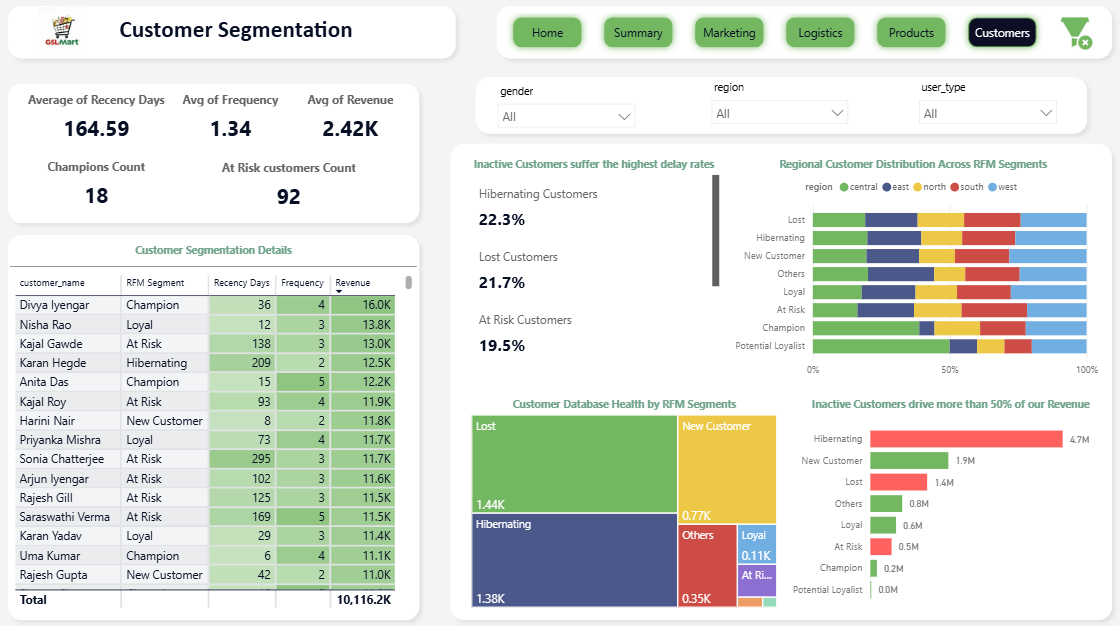

Layout of this report page (visuals, bound fields, positions):
{"tool":"powerbi","page":{"name":"Customers","canvas":[1280,720],"ordinal":5},"visuals":[{"type":"shape","box":[0,261.4,488.3,458.9],"z":0},{"type":"shape","box":[534.3,81.4,717.1,82.9],"z":1000},{"type":"shape","box":[505.7,157.1,774.3,562.9],"z":2000},{"type":"shape","box":[0,88.3,488.3,177.9],"z":3000},{"type":"shape","box":[0,0,529.9,78.4],"z":4000},{"type":"cardVisual","fields":{"Data":["Avg(RFM Table.Recency Days)"]},"box":[0,88.6,220,92.9],"z":5000},{"type":"cardVisual","fields":{"Data":["Avg(RFM Table.Frequency)"]},"box":[174.3,81.4,178.6,107.1],"z":6000},{"type":"shape","box":[558.5,0,721.5,78.4],"z":7000},{"type":"cardVisual","fields":{"Data":["Avg(RFM Table.Revenue)"]},"box":[312.9,88.3,175.5,93.3],"z":8000},{"type":"cardVisual","fields":{"Data":["CountNonNull(RFM Table.RFM Segment)"]},"box":[0,162.9,220,98.6],"z":9000},{"type":"slicer","fields":{"Values":["Dim_Customers.gender"]},"box":[558.5,93.3,177,70],"z":10000},{"type":"slicer","fields":{"Values":["Dim_Geography.region"]},"box":[802.5,88.3,176.7,69.9],"z":11000},{"type":"slicer","fields":{"Values":["Dim_Customers.user_type"]},"box":[1040.5,88.3,177.9,69.9],"z":12000},{"type":"cardVisual","fields":{"Data":["CountNonNull(RFM Table.RFM Segment)"]},"box":[220,164.3,220,98.6],"z":13000},{"type":"treemap","title":"Customer Database Health by RFM Segments","fields":{"Group":["RFM Table.RFM Segment"],"Values":["CountNonNull(RFM Table.customer_id)"]},"box":[534.3,455.7,358.6,245.7],"z":14000},{"type":"clusteredBarChart","title":"Inactive Customers drive more than 50% of our Revenue","fields":{"Y":["Sum(RFM Table.Revenue)"],"Category":["RFM Table.RFM Segment"]},"box":[892.9,455.7,387.1,245.7],"z":15000},{"type":"tableEx","title":"Customer Segmentation Details","fields":{"Values":["Dim_Customers.customer_name","RFM Table.RFM Segment","RFM Table.Recency Days","RFM Table.Frequency","Sum(RFM Table.Revenue)"]},"box":[11,279.8,465,420.9],"z":16000},{"type":"hundredPercentStackedBarChart","title":"Regional Customer Distribution Across RFM Segments","fields":{"Category":["RFM Table.RFM Segment"],"Series":["Dim_Geography.region"],"Y":["CountNonNull(RFM Table.customer_id)"]},"box":[827.1,181.4,432.9,260],"z":17000},{"type":"cardVisual","title":"Inactive Customers suffer the highest delay rates","fields":{"Data":["RFM Table.Delay Rate for Hibernating","RFM Table.Delay Rate for Lost","RFM Table.Delay Rate for At Risk","RFM Table.Delay Rate for Champion","RFM Table.Delay Rate for Potential Loyalist"]},"box":[530,181.2,297.5,238.8],"z":18000},{"type":"textbox","box":[131.2,13.8,307.5,46.2],"z":19000},{"type":"pageNavigator","box":[578.8,13.8,617.5,50],"z":20000},{"type":"image","box":[1196.2,13.8,65,50],"z":21000},{"type":"image","box":[11.2,6.2,120,63.8],"z":22000}]}

Visuals, with their boxes in screenshot pixels (x1, y1, x2, y2), scaled from the page's 1280x720 canvas onto the 1120x626 screenshot:
shape: locate(0, 227, 427, 625)
shape: locate(468, 71, 1095, 143)
shape: locate(442, 137, 1119, 625)
shape: locate(0, 77, 427, 231)
shape: locate(0, 0, 464, 68)
cardVisual - Avg(RFM Table.Recency Days): locate(0, 77, 192, 158)
cardVisual - Avg(RFM Table.Frequency): locate(153, 71, 309, 164)
shape: locate(489, 0, 1119, 68)
cardVisual - Avg(RFM Table.Revenue): locate(274, 77, 427, 158)
cardVisual - CountNonNull(RFM Table.RFM Segment): locate(0, 142, 192, 227)
slicer - Dim_Customers.gender: locate(489, 81, 644, 142)
slicer - Dim_Geography.region: locate(702, 77, 857, 138)
slicer - Dim_Customers.user_type: locate(910, 77, 1066, 138)
cardVisual - CountNonNull(RFM Table.RFM Segment): locate(192, 143, 385, 229)
"Customer Database Health by RFM Segments" treemap: locate(468, 396, 781, 610)
"Inactive Customers drive more than 50% of our Revenue" clusteredBarChart: locate(781, 396, 1119, 610)
"Customer Segmentation Details" tableEx: locate(10, 243, 416, 609)
"Regional Customer Distribution Across RFM Segments" hundredPercentStackedBarChart: locate(724, 158, 1102, 384)
"Inactive Customers suffer the highest delay rates" cardVisual: locate(464, 158, 724, 365)
textbox: locate(115, 12, 384, 52)
pageNavigator: locate(506, 12, 1047, 55)
image: locate(1047, 12, 1104, 55)
image: locate(10, 5, 115, 61)
